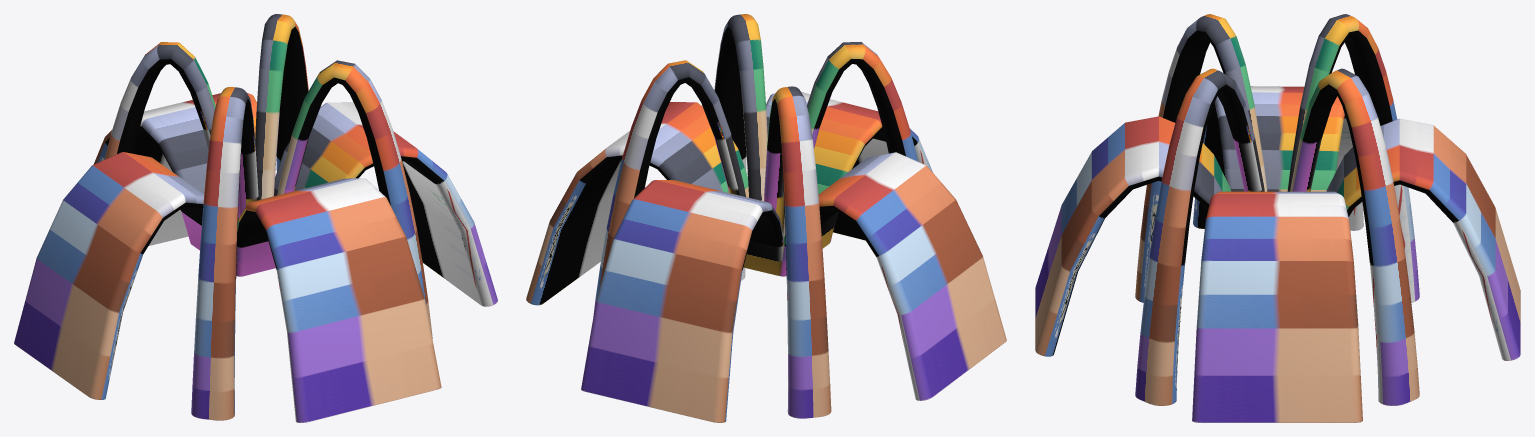
File: fountainWater.fbx
3 renders of one model, left to right at view 1: azimuth 30°, elevation 25°; view 2: azimuth 150°, elevation 25°; view 3: azimuth 270°, elevation 25°, orthographic. The views are drawn at different scales.
Parts seen in each view (by area): view 1: fountainWater; view 2: fountainWater; view 3: fountainWater.
Boxes of the visible parts, <box> form: fountainWater: <box>14,14,497,422</box>; fountainWater: <box>526,14,1006,422</box>; fountainWater: <box>1035,14,1520,422</box>.
Size of the model in its own units: 1.32 by 1.31 by 0.9026.
